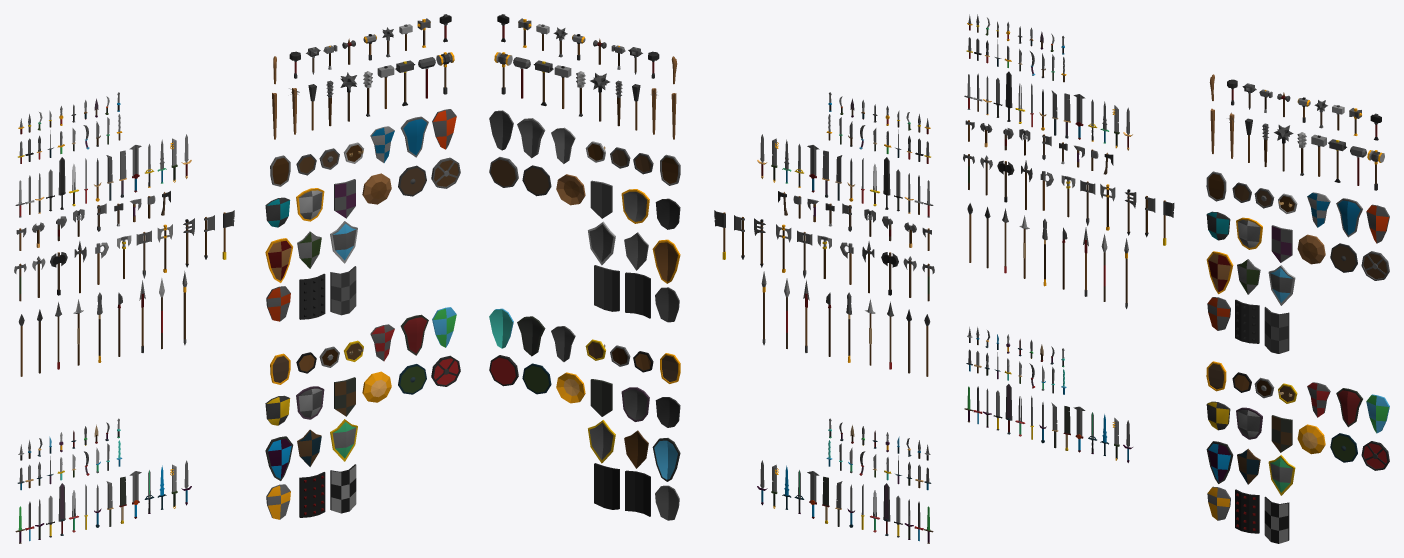
The model's file is LowPolyWeapons.fbx.
3 views of the same model, side by side, from view 1: azimuth 30°, elevation 25°; view 2: azimuth 150°, elevation 25°; view 3: azimuth 330°, elevation 25° (orthographic). The views are drawn at different scales.
Parts seen in each view (by area): view 1: shield19_001, shield19, shield18, shield18_001, shield14, shield14_001, shield16_001, shield16, shield9_001, shield9, shield6, shield6_001 (+20 smaller); view 2: shield19, shield19_001, shield18_001, shield18, shield14, shield14_001, shield16, shield16_001, shield9, shield9_001, shield6, shield6_001 (+20 smaller); view 3: shield19_001, shield19, shield18_001, shield18, shield14, shield14_001, shield16_001, shield16, shield9_001, shield9, shield6, shield6_001 (+19 smaller).
Part boxes in pixels (x1,y1,x2,y2): shield19_001: (330,464,356,513); shield19: (330,266,356,315); shield18: (299,273,325,319); shield18_001: (299,472,325,517); shield14: (265,238,292,282); shield14_001: (265,436,293,480); shield16_001: (330,419,357,461); shield16: (330,221,357,263); shield9_001: (296,386,324,419); shield9: (296,188,324,221); shield6: (400,116,428,157); shield6_001: (400,314,428,355); shield19: (594,265,619,311); shield19_001: (594,463,619,509); shield18_001: (625,470,650,516); shield18: (625,272,650,318); shield14: (652,239,680,283); shield14_001: (652,438,680,481); shield16: (588,221,615,265); shield16_001: (588,420,615,463); shield9: (621,189,649,223); shield9_001: (621,387,649,421); shield6: (517,118,545,158); shield6_001: (517,316,545,356); shield19_001: (1264,496,1289,543); shield19: (1264,307,1289,353); shield18_001: (1235,489,1259,533); shield18: (1235,299,1259,343); shield14: (1206,251,1233,294); shield14_001: (1206,441,1233,483); shield16_001: (1268,455,1295,495); shield16: (1268,265,1295,305); shield9_001: (1236,407,1262,439); shield9: (1236,217,1262,249); shield6: (1336,198,1362,237); shield6_001: (1336,388,1362,427).
Size of the model in its own units: 53.97 by 54.84 by 2.06.
